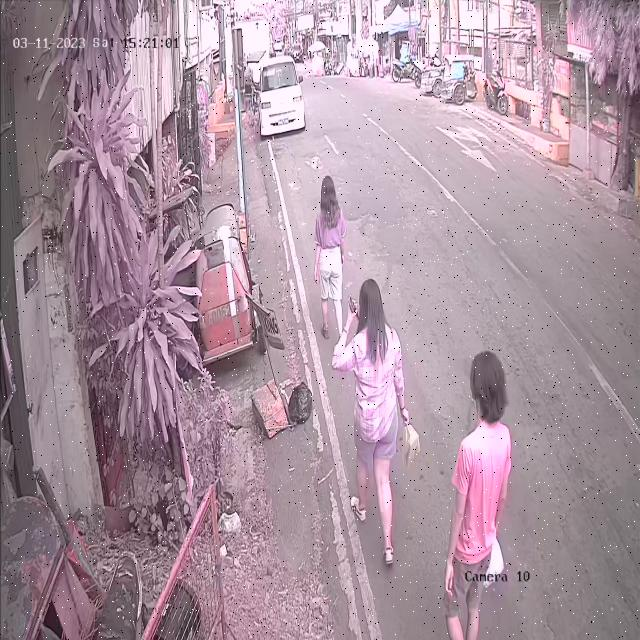garbage_dumping: (401, 413, 424, 472), (288, 377, 314, 428), (488, 528, 506, 588)
